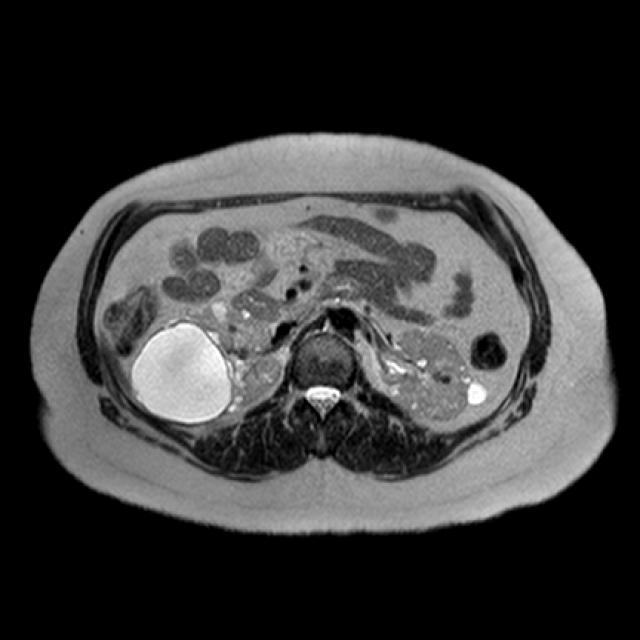sag: (131, 298, 279, 426)
sol: (382, 325, 485, 420)
